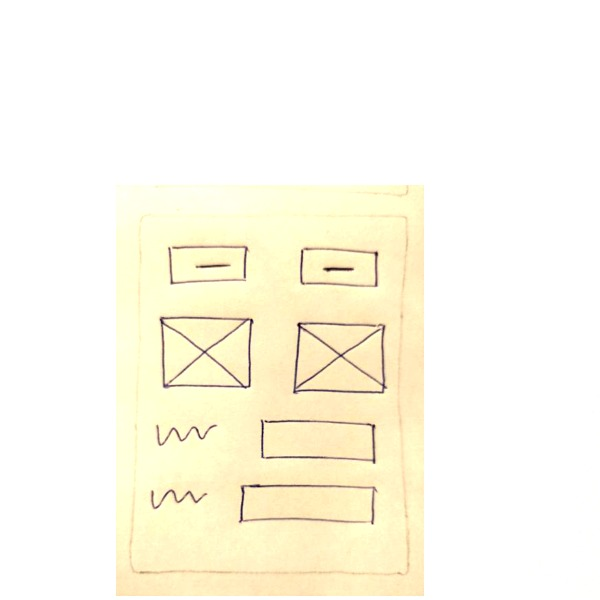button: (294, 239, 383, 297), (163, 239, 252, 294)
image: (154, 314, 258, 394), (285, 319, 389, 399)
text: (149, 417, 221, 451), (143, 484, 215, 518)
text_input: (233, 478, 385, 529), (254, 416, 382, 466)
